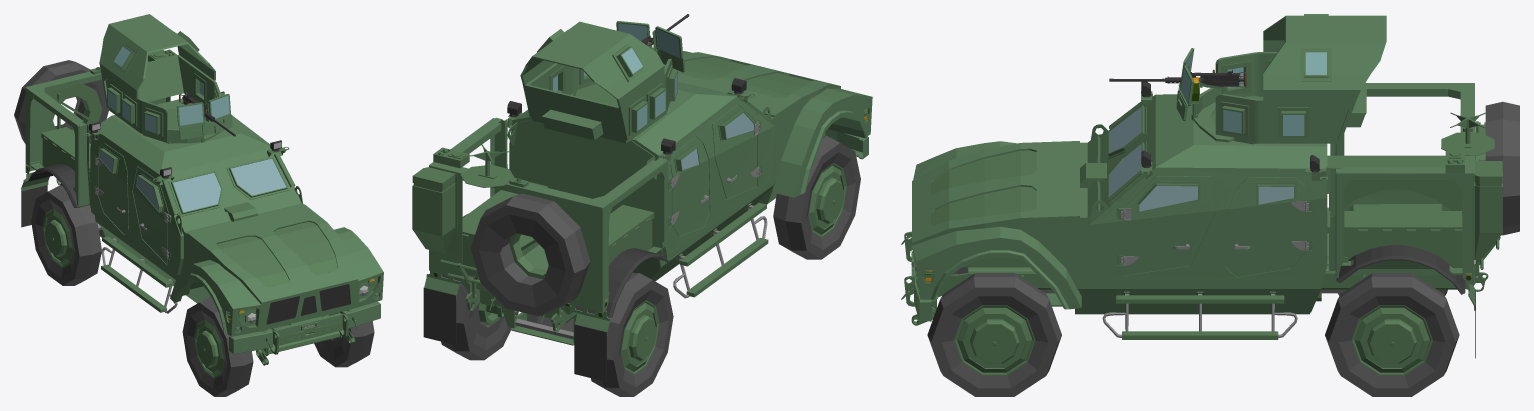
The model's file is matv.glb.
3 renders of one model, left to right at view 1: azimuth 30°, elevation 25°; view 2: azimuth 150°, elevation 25°; view 3: azimuth 270°, elevation 25°, orthographic. The views are drawn at different scales.
Visible parts, largest first — view 1: Cube.002_4, Cube.003_6, Cube.006_9, Cube.005_8, Cube.004_7; view 2: Cube.002_4, Cube.003_6, Cube.005_8, Cube.006_9, Cube.007_10; view 3: Cube.002_4, Cube.003_6, Cube.004_7, Cube.007_10, Cube.001_5.
Part boxes in pixels (x1,y1,x2,y2): Cube.002_4: [14, 49, 383, 365]; Cube.003_6: [99, 14, 232, 143]; Cube.006_9: [31, 186, 101, 285]; Cube.005_8: [182, 297, 253, 396]; Cube.004_7: [314, 309, 374, 367]; Cube.002_4: [412, 51, 872, 381]; Cube.003_6: [520, 21, 685, 143]; Cube.005_8: [773, 136, 860, 259]; Cube.006_9: [591, 273, 673, 396]; Cube.007_10: [441, 275, 518, 360]; Cube.002_4: [901, 81, 1519, 358]; Cube.003_6: [1176, 14, 1386, 143]; Cube.004_7: [927, 273, 1061, 396]; Cube.007_10: [1325, 273, 1459, 396]; Cube.001_5: [1109, 69, 1246, 103].
Bounding box in the file's own units: 2.39 × 3.64 × 6.27.
